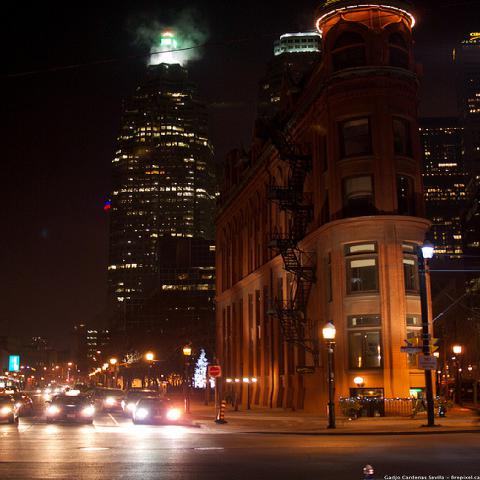car: (46, 395, 92, 424), (120, 388, 160, 419), (131, 398, 178, 424), (92, 388, 124, 414), (3, 391, 34, 417), (0, 394, 22, 424), (36, 387, 51, 395)
